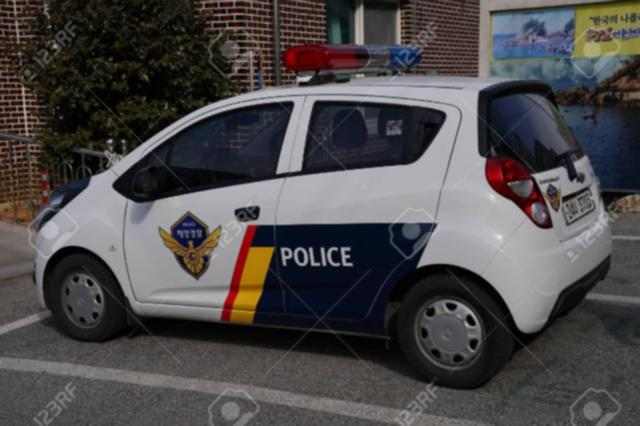police: (26, 42, 609, 380)
